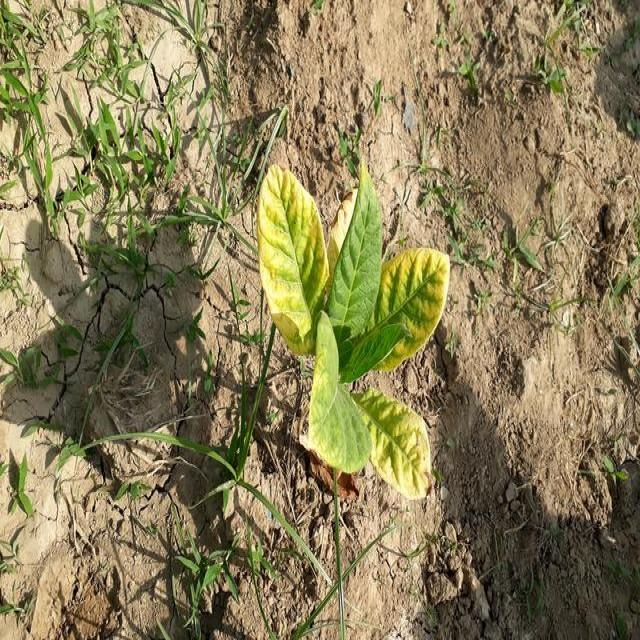crop: (260, 152, 452, 501)
